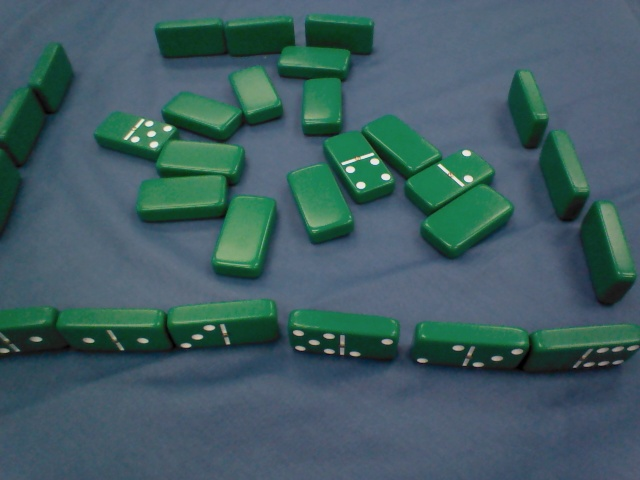A: (422, 183, 515, 256), (279, 163, 357, 242), (358, 108, 446, 174), (134, 172, 226, 227), (219, 194, 276, 280), (162, 86, 243, 140), (155, 132, 248, 179), (224, 62, 284, 129), (272, 44, 356, 80), (296, 77, 349, 133)
B: (401, 135, 498, 208), (319, 126, 400, 198), (89, 110, 178, 156)
C: (25, 41, 79, 111), (1, 87, 44, 161), (1, 160, 25, 230)
D: (568, 199, 638, 305), (532, 126, 592, 231), (499, 68, 554, 152)
E: (407, 312, 527, 379), (286, 307, 401, 369), (527, 325, 636, 379), (60, 306, 170, 357), (165, 303, 287, 347), (1, 301, 57, 364)
F: (304, 13, 379, 56), (152, 18, 229, 59), (224, 19, 300, 52)
